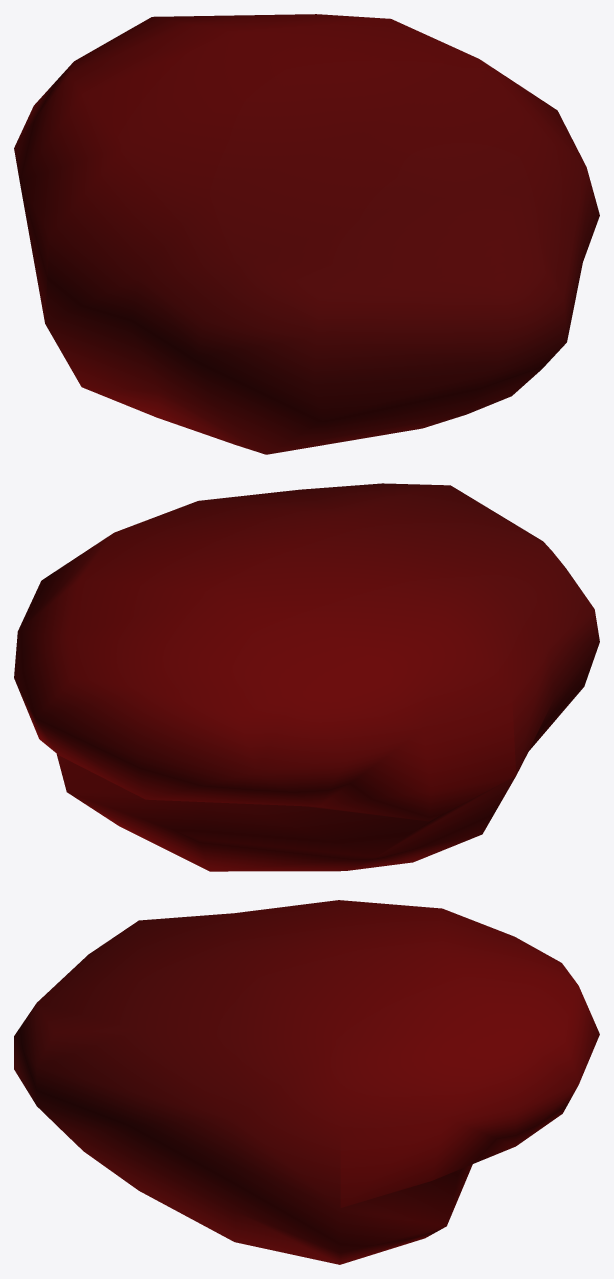
File: geology-pebbles-limestonepebble_v6.fbx
3 renders of one model, top to bottom at view 1: azimuth 30°, elevation 25°; view 2: azimuth 150°, elevation 25°; view 3: azimuth 270°, elevation 25°, orthographic. The views are drawn at different scales.
Visible parts, largest first — view 1: LimestonePebble_v6; view 2: LimestonePebble_v6; view 3: LimestonePebble_v6.
Boxes of the visible parts, x1,y1,x2,y2 form: LimestonePebble_v6: (14,14,599,454); LimestonePebble_v6: (14,483,599,871); LimestonePebble_v6: (14,900,599,1264).
Bounding box in the file's own units: 11.45 × 6.66 × 13.48.
